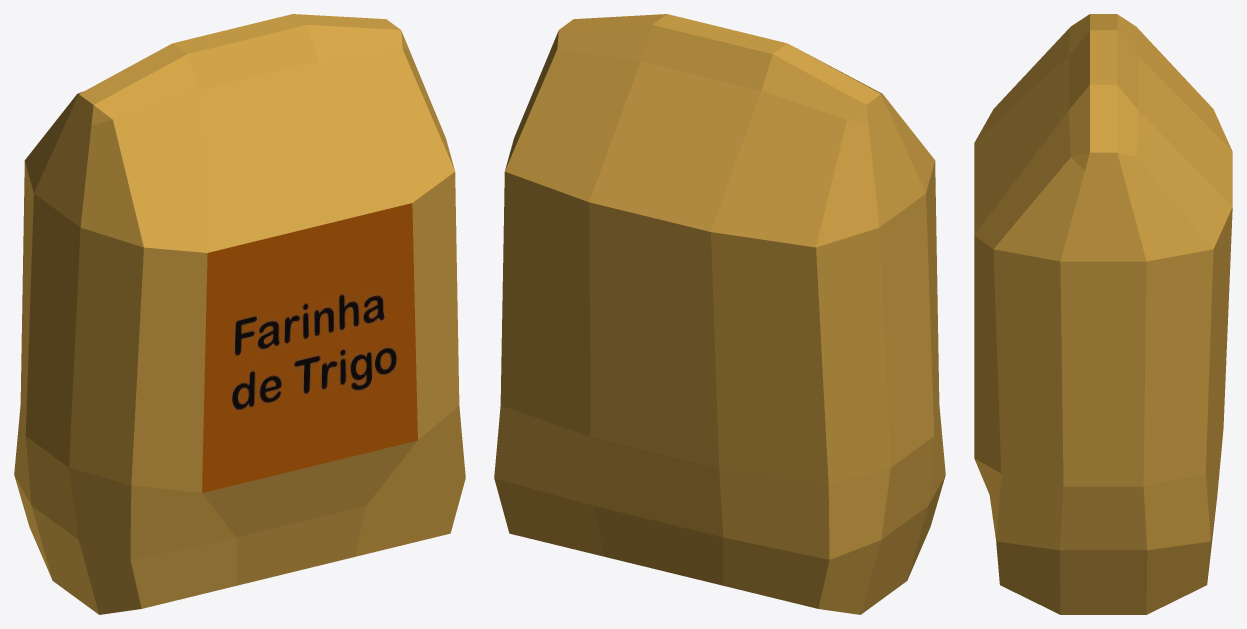
Rendered from FarinhaDeTrigo.fbx.
3 renders of one model, left to right at view 1: azimuth 30°, elevation 25°; view 2: azimuth 150°, elevation 25°; view 3: azimuth 270°, elevation 25°, orthographic. The views are drawn at different scales.
Parts seen in each view (by area): view 1: SacoDeFarinha; view 2: SacoDeFarinha; view 3: SacoDeFarinha.
Boxes of the visible parts, bbox=[...] form: SacoDeFarinha: bbox=[14, 14, 465, 614]; SacoDeFarinha: bbox=[494, 14, 945, 614]; SacoDeFarinha: bbox=[974, 14, 1232, 614].
Bounding box in the file's own units: 34.48 × 44.8 × 21.7.
Materials: 2 (2 with a texture image).
